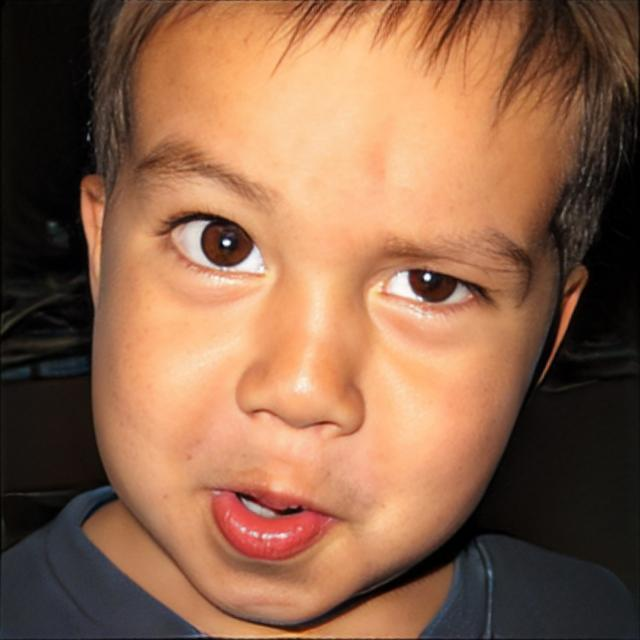disgust: (89, 0, 562, 629)
